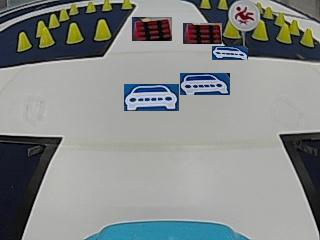cone: (94, 18, 110, 41), (66, 22, 82, 44), (38, 25, 53, 47), (252, 21, 268, 41), (222, 21, 239, 38), (16, 31, 30, 51), (277, 24, 291, 44), (301, 27, 313, 47), (48, 12, 59, 28), (36, 19, 45, 37), (290, 18, 299, 35), (59, 8, 69, 21), (69, 3, 78, 16), (264, 5, 272, 19), (102, 0, 112, 11), (86, 1, 95, 13), (200, 0, 210, 9), (218, 0, 227, 10), (121, 0, 131, 9)
tumble: (231, 2, 259, 27)
